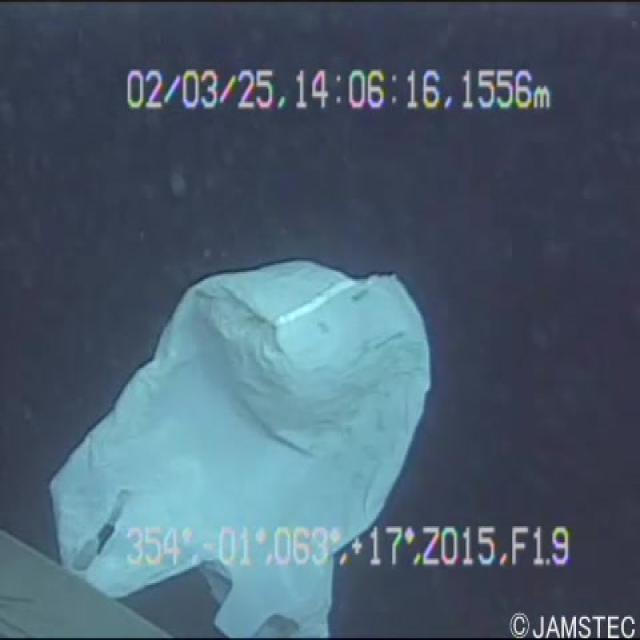plastic: (36, 221, 427, 638)
